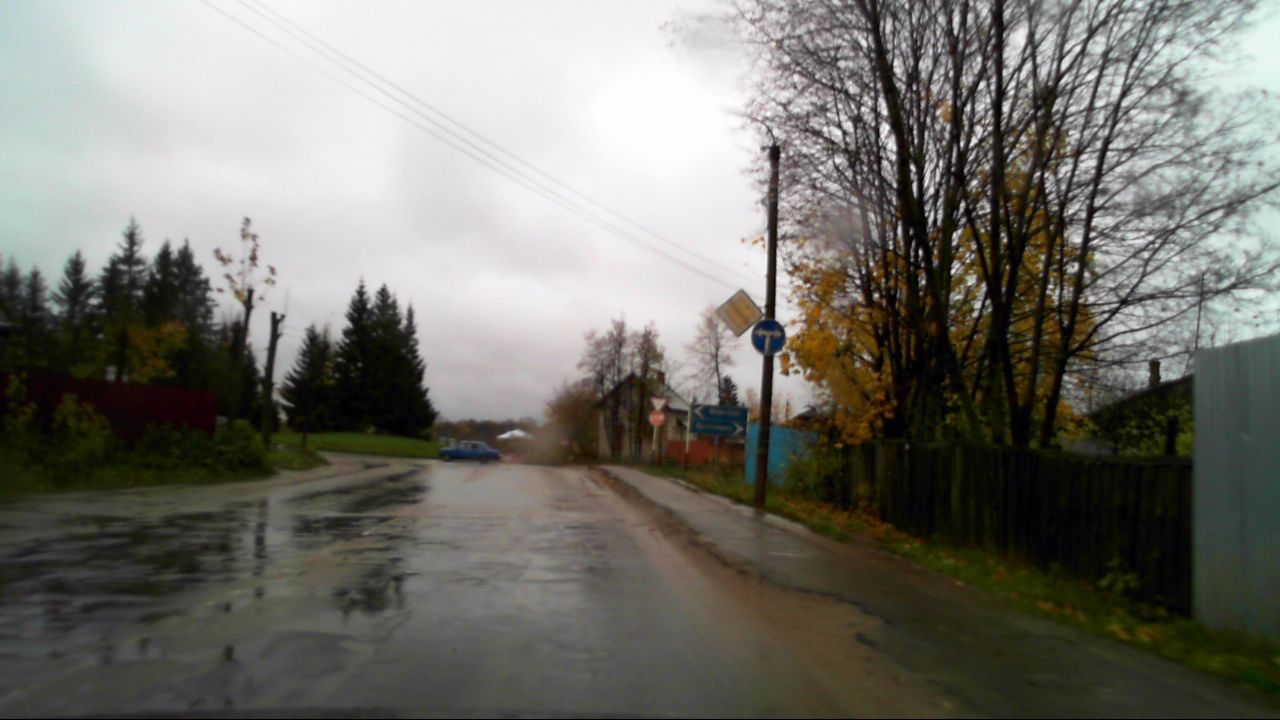main road: (716, 289, 763, 338)
